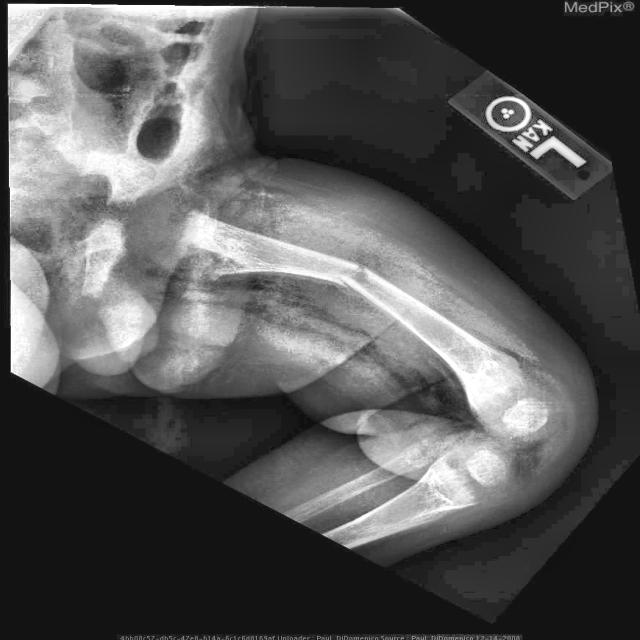angle: (338, 263, 369, 292)
